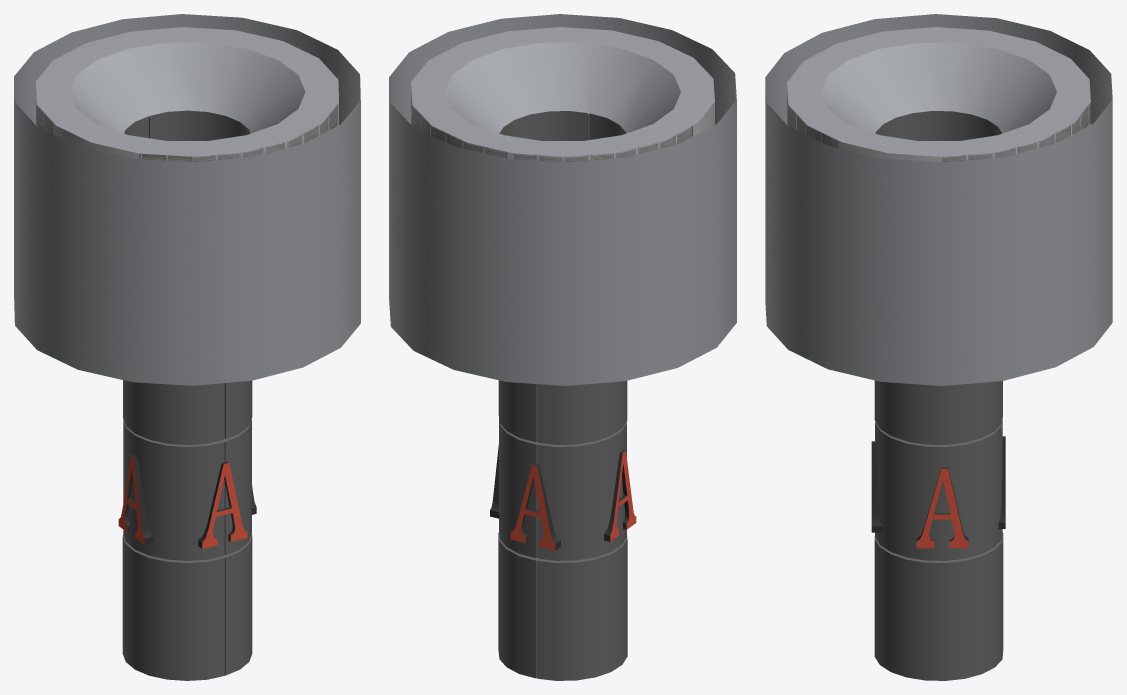
Rendered from Circular structure.fbx.
The picture shows the model from 3 angles, left to right: view 1: azimuth 30°, elevation 25°; view 2: azimuth 150°, elevation 25°; view 3: azimuth 270°, elevation 25°; orthographic projection.
Visible parts, largest first — view 1: Circular Shape; view 2: Circular Shape; view 3: Circular Shape.
Boxes of the visible parts, bbox=[...] form: Circular Shape: bbox=[14, 14, 360, 680]; Circular Shape: bbox=[389, 14, 736, 680]; Circular Shape: bbox=[765, 14, 1112, 680].
Bounding box in the file's own units: 6.08 × 10.79 × 6.01.
